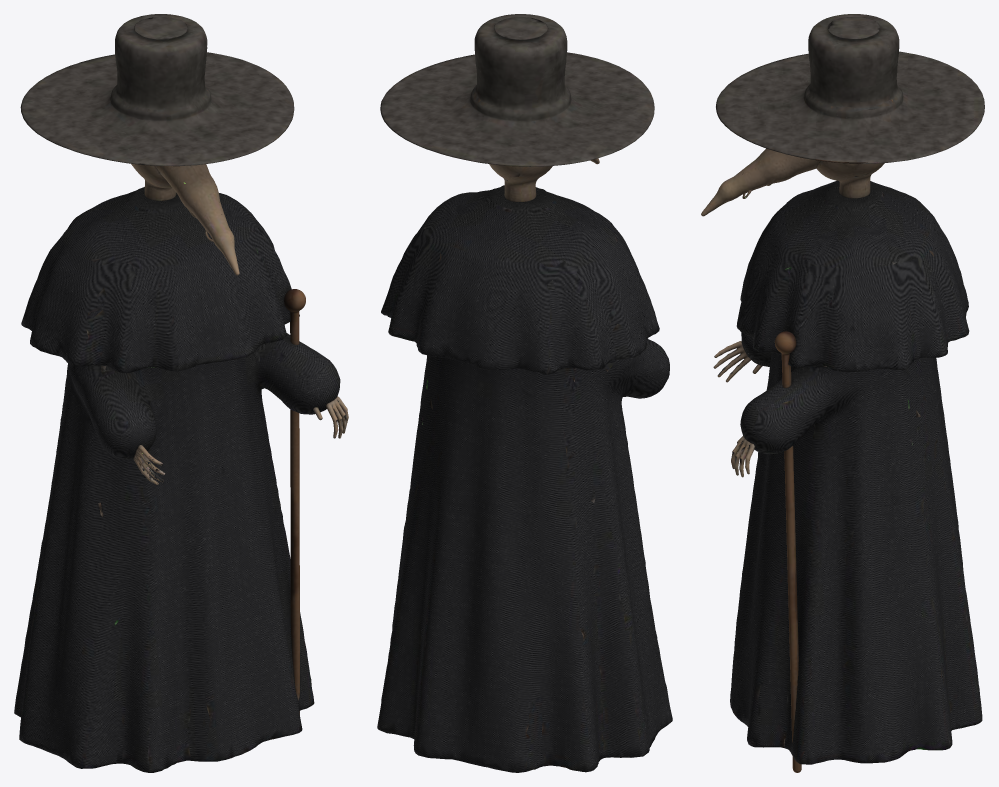
Rendered from plague_doctor.glb.
The picture shows the model from 3 angles, left to right: view 1: azimuth 30°, elevation 25°; view 2: azimuth 150°, elevation 25°; view 3: azimuth 270°, elevation 25°; orthographic projection.
Visible parts, largest first — view 1: Plague_Coat, Wide_Hat, Cane, Beak_Mask, Plague_Body, Glove_2, Glove_0; view 2: Plague_Coat, Wide_Hat, Plague_Body; view 3: Plague_Coat, Wide_Hat, Cane, Beak_Mask, Plague_Body, Glove_0, Glove_2.
Boxes of the visible parts, x1=… form: Plague_Coat: x1=14, y1=187, x2=340, y2=772; Wide_Hat: x1=20, y1=14, x2=294, y2=166; Cane: x1=284, y1=289, x2=305, y2=714; Beak_Mask: x1=155, y1=164, x2=239, y2=275; Plague_Body: x1=98, y1=163, x2=176, y2=516; Glove_2: x1=313, y1=396, x2=348, y2=438; Glove_0: x1=133, y1=445, x2=165, y2=484; Plague_Coat: x1=377, y1=185, x2=672, y2=772; Wide_Hat: x1=380, y1=14, x2=654, y2=166; Plague_Body: x1=489, y1=164, x2=552, y2=201; Plague_Coat: x1=730, y1=180, x2=982, y2=764; Wide_Hat: x1=716, y1=14, x2=984, y2=163; Cane: x1=774, y1=331, x2=801, y2=772; Beak_Mask: x1=701, y1=148, x2=819, y2=216; Plague_Body: x1=816, y1=161, x2=884, y2=198; Glove_0: x1=713, y1=341, x2=762, y2=382; Glove_2: x1=731, y1=436, x2=755, y2=477.
Size of the model in its own units: 0.8028 by 2.04 by 0.7549.
1 material, 1 textured.
